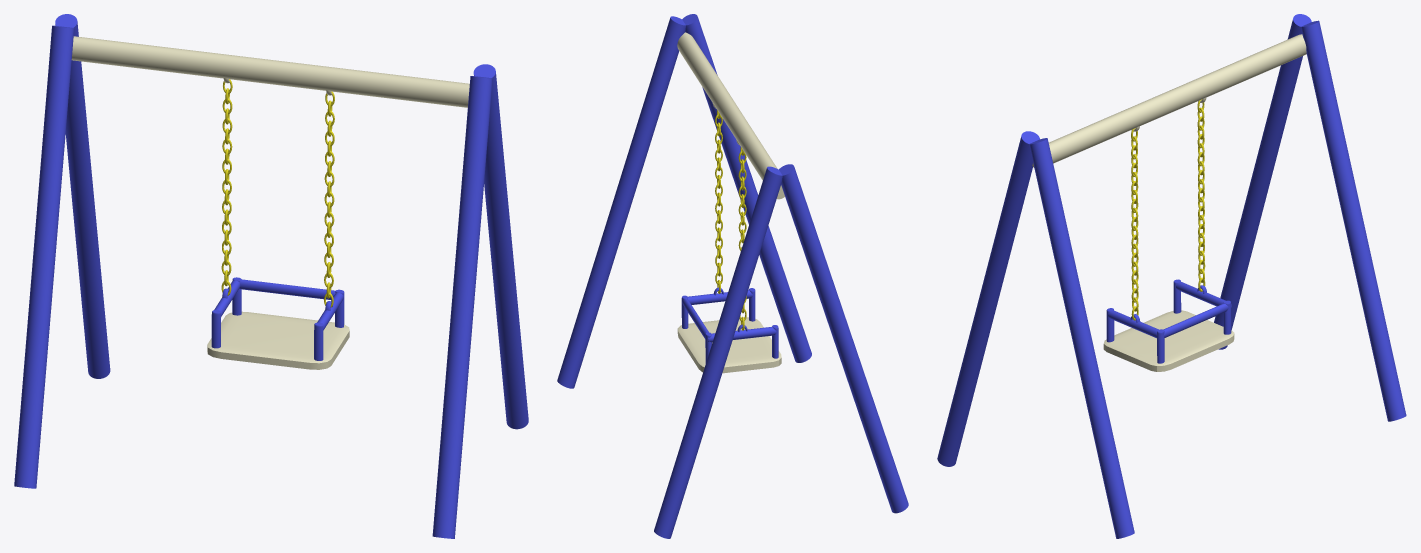
The model's file is altalena.fbx.
3 views of the same model, side by side, from view 1: azimuth 30°, elevation 25°; view 2: azimuth 150°, elevation 25°; view 3: azimuth 270°, elevation 25° (orthographic). The views are drawn at different scales.
Parts seen in each view (by area): view 1: altalena; view 2: altalena; view 3: altalena.
Part boxes in pixels (x1=…): altalena: x1=14, y1=14, x2=528, y2=538; altalena: x1=557, y1=14, x2=908, y2=538; altalena: x1=937, y1=14, x2=1406, y2=538.
Size of the model in its own units: 1029 by 892 by 1029.
